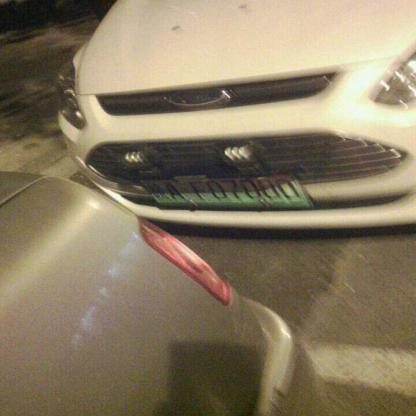lp: (139, 174, 311, 207)
